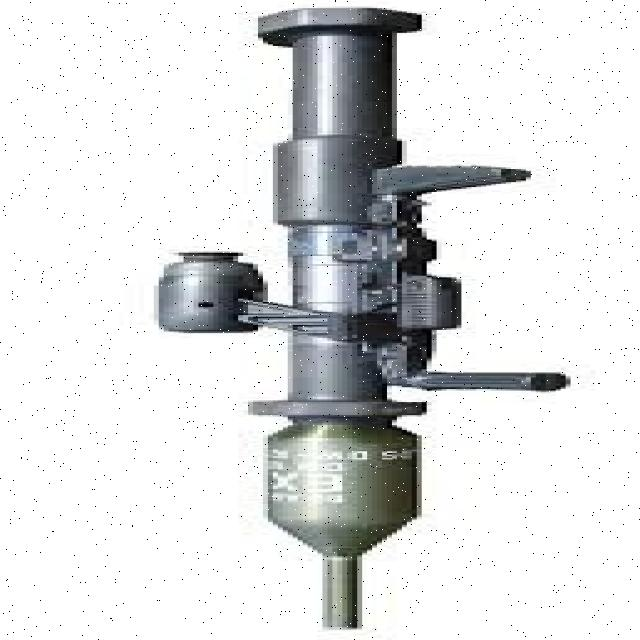bazooka: (119, 1, 586, 640)
